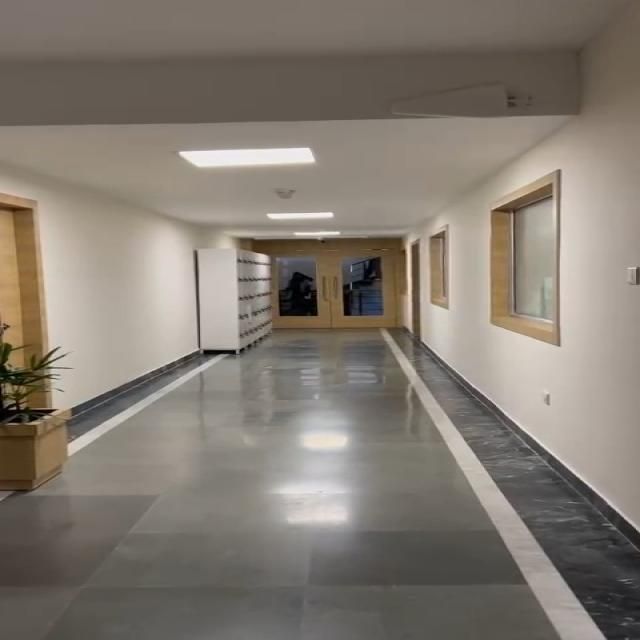door: (294, 234, 451, 339), (507, 190, 571, 348), (0, 162, 44, 318)
floor: (142, 367, 532, 640)
furniture: (187, 237, 279, 349), (0, 323, 63, 462)
wall: (62, 163, 195, 380)
